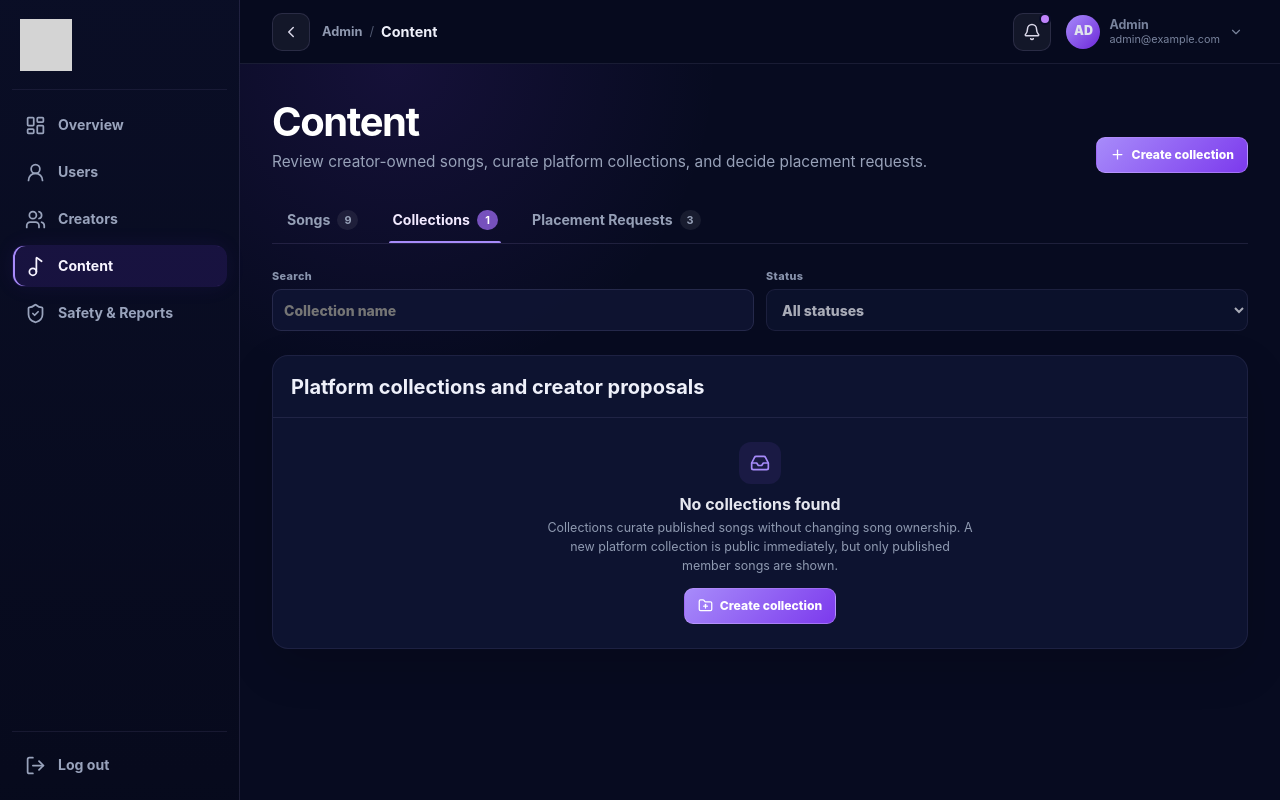
Test: consolidated admin routes › refreshes tab counts after creating a collection
This screenshot has width=1280, height=800.
Expected: the button with aria-label "Collections: 1" is shown, [377,197,513,243]
Click the 1st button "Create collection": (1172, 155) [1096,137,1248,173]
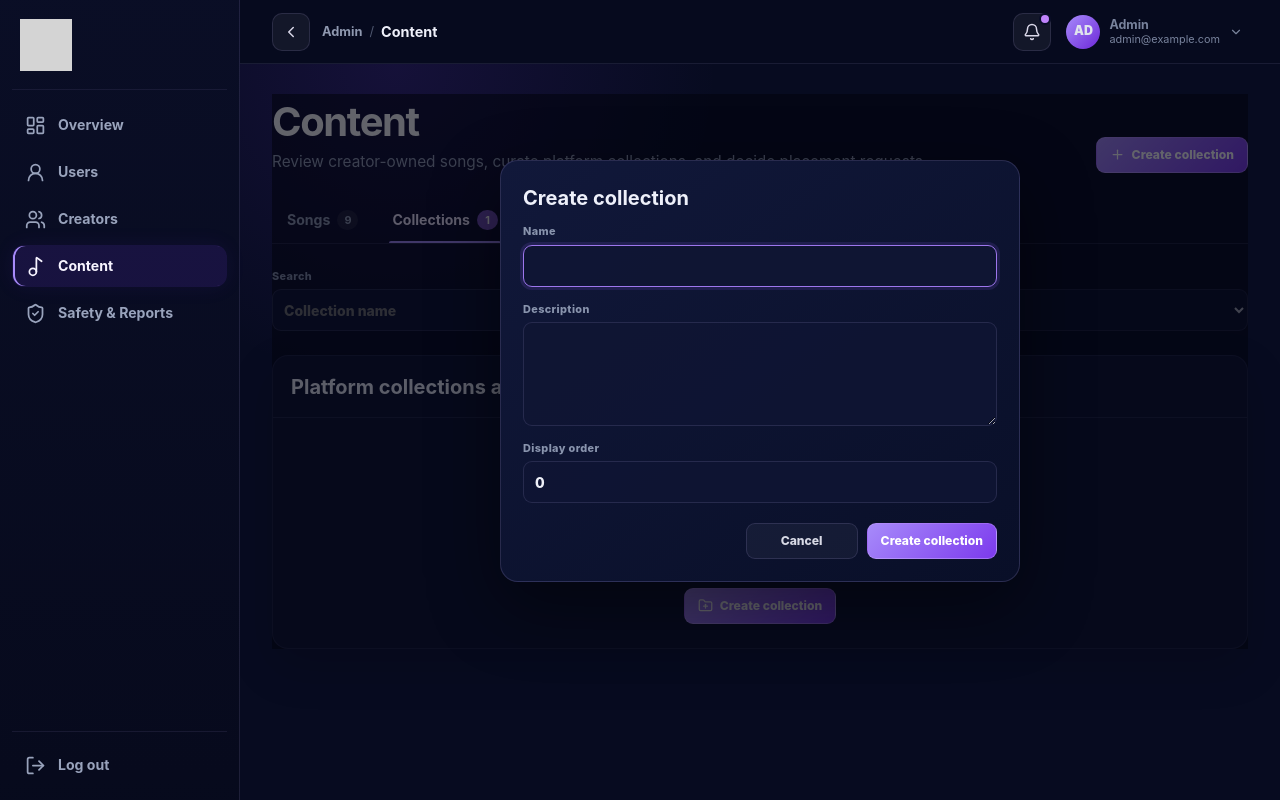
In the field labelled "Name": (760, 266) [523,245,997,287], type "Heritage"
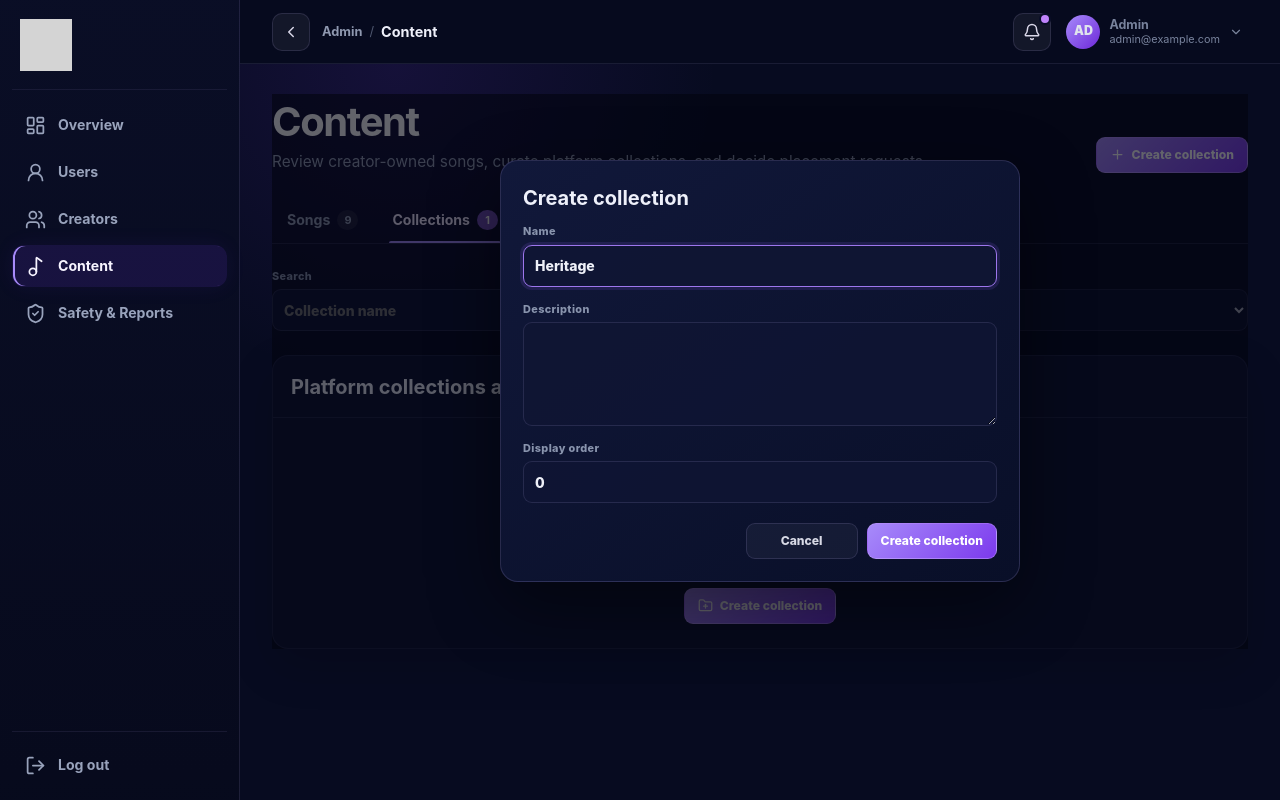
Click the button "Create collection": (932, 541) [867,523,997,559]
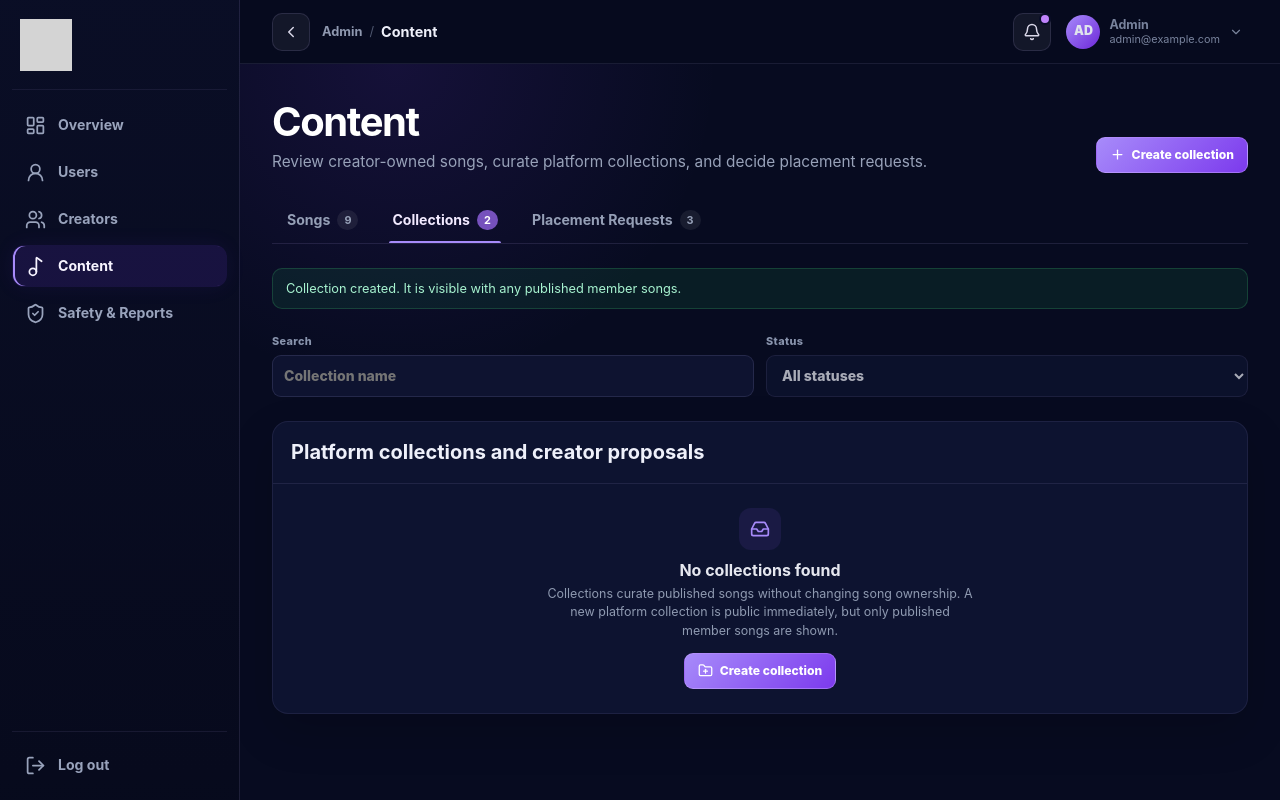
Result: the button with aria-label "Collections: 2" is shown at [377,197,513,243]
